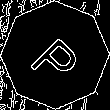P_NE: (24, 24, 86, 86)
